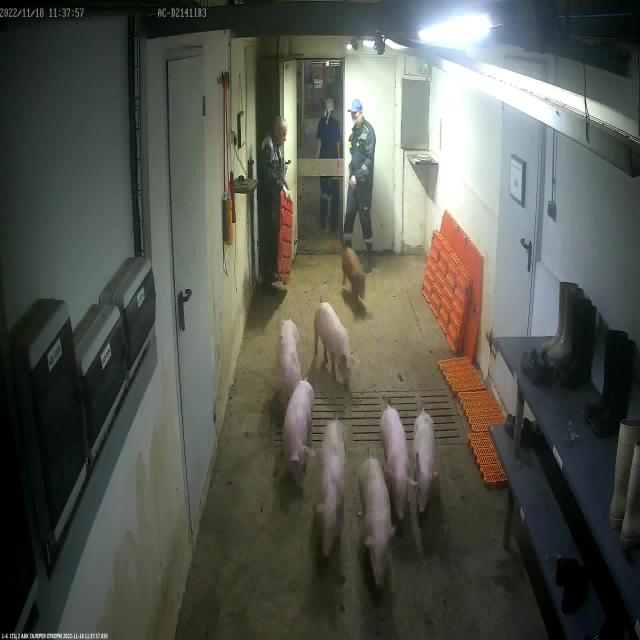pig: (356, 456, 395, 591), (380, 410, 418, 521), (314, 303, 355, 389), (284, 380, 316, 490), (322, 421, 344, 557), (414, 413, 437, 512), (280, 320, 300, 405), (342, 250, 366, 304)
